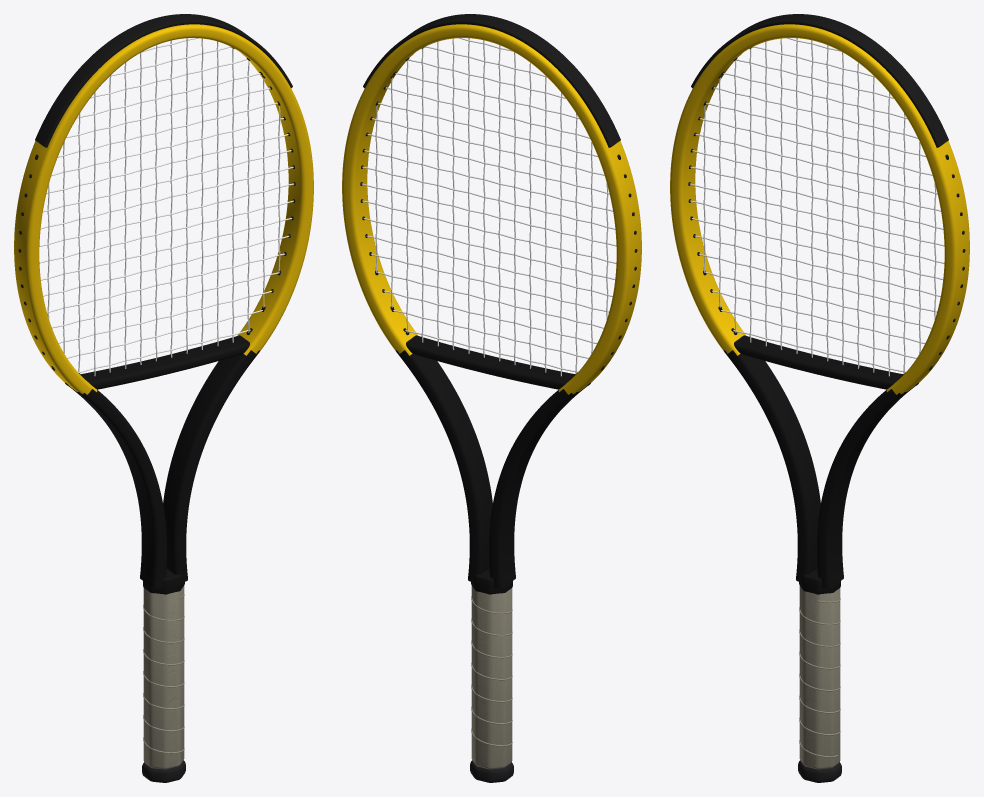
Rendered from dunlop-sx-300-2025.glb.
3 views of the same model, side by side, from view 1: azimuth 30°, elevation 25°; view 2: azimuth 150°, elevation 25°; view 3: azimuth 330°, elevation 25° (orthographic).
Visible parts, largest first — view 1: Frame, Strings, Handle, Bumper, Yoke, GripSeam, ButtCap, Collar; view 2: Frame, Strings, Handle, Bumper, Yoke, GripSeam, ButtCap, Collar; view 3: Frame, Strings, Handle, Bumper, Yoke, GripSeam, ButtCap, Collar.
Boxes of the visible parts, x1,y1,x2,y2 form: Frame: [14, 24, 313, 588]; Strings: [39, 38, 294, 376]; Handle: [143, 586, 184, 769]; Bumper: [35, 14, 292, 147]; Yoke: [81, 335, 249, 389]; GripSeam: [143, 594, 184, 753]; ButtCap: [142, 760, 185, 782]; Collar: [143, 569, 184, 594]; Frame: [342, 24, 641, 588]; Strings: [361, 38, 616, 376]; Handle: [471, 586, 512, 769]; Bumper: [363, 14, 620, 147]; Yoke: [406, 335, 574, 389]; GripSeam: [471, 596, 512, 746]; ButtCap: [470, 760, 513, 782]; Collar: [471, 569, 512, 594]; Frame: [670, 24, 969, 588]; Strings: [689, 38, 944, 376]; Handle: [799, 586, 840, 769]; Bumper: [691, 14, 948, 147]; Yoke: [734, 335, 902, 389]; GripSeam: [799, 598, 840, 757]; ButtCap: [798, 760, 841, 782]; Collar: [799, 569, 840, 594].
Bounding box in the file's own units: 0.2758 × 0.6886 × 0.0327.
6 materials, 1 textured.
